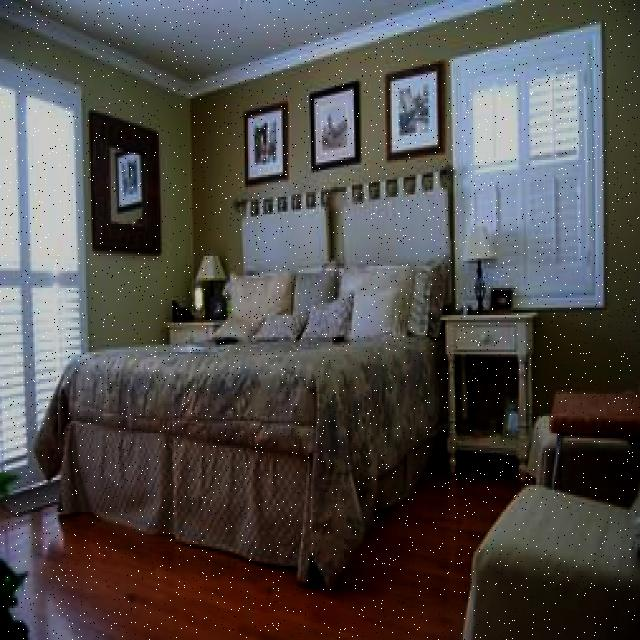bed: (46, 251, 451, 554)
